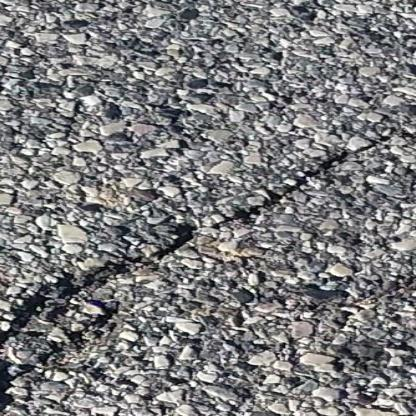Cracks: (0, 227, 197, 416), (207, 124, 416, 232)
